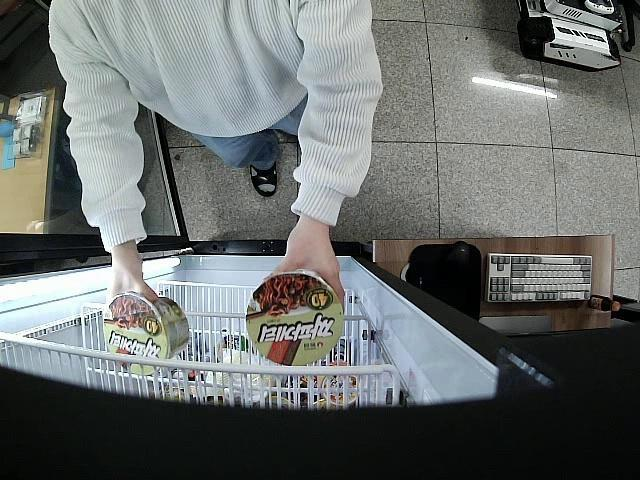03_chapagetti_L: (245, 274, 346, 364), (99, 290, 192, 374)
